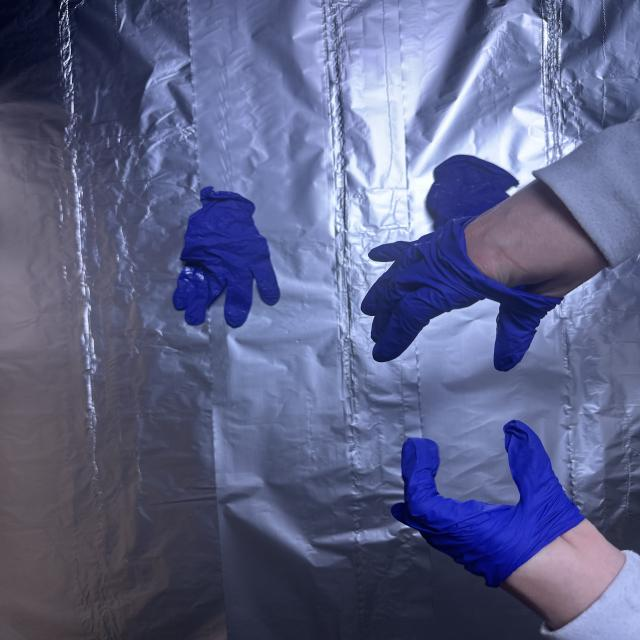glove_partial: (387, 416, 633, 640), (356, 174, 614, 373)
